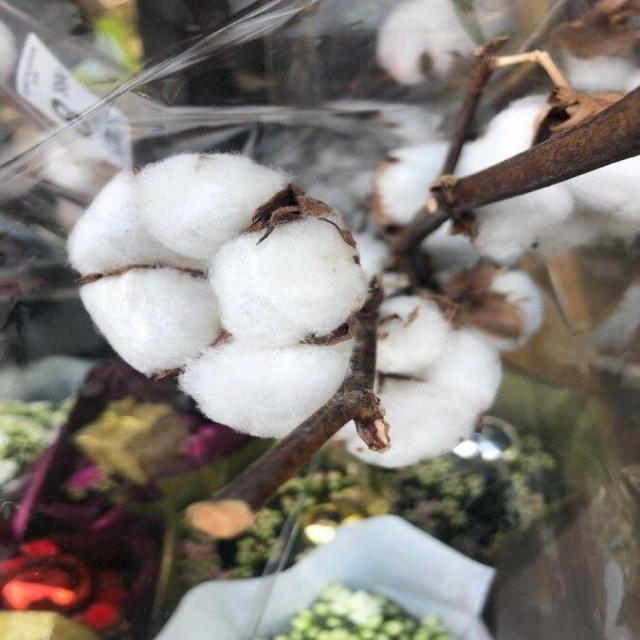Leaf: (52, 148, 391, 461), (342, 291, 528, 483)
